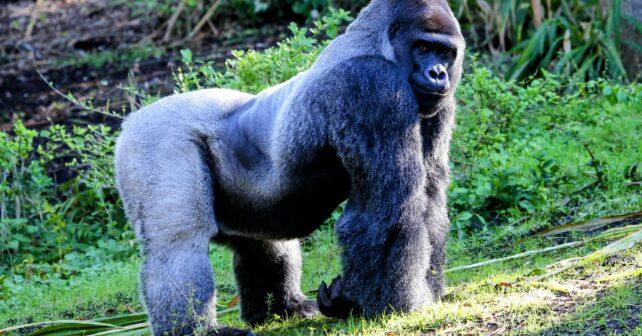goriile_montagne: (89, 0, 527, 336)
